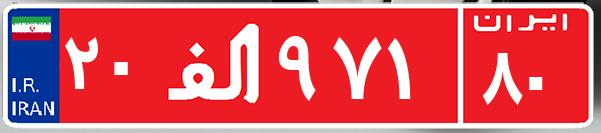0: (110, 28, 158, 105), (525, 38, 570, 115)
1: (385, 28, 445, 110)
2: (57, 26, 110, 107)
7: (330, 28, 385, 110)
8: (475, 38, 525, 113)
9: (273, 28, 330, 110)
الف: (158, 15, 273, 115)
